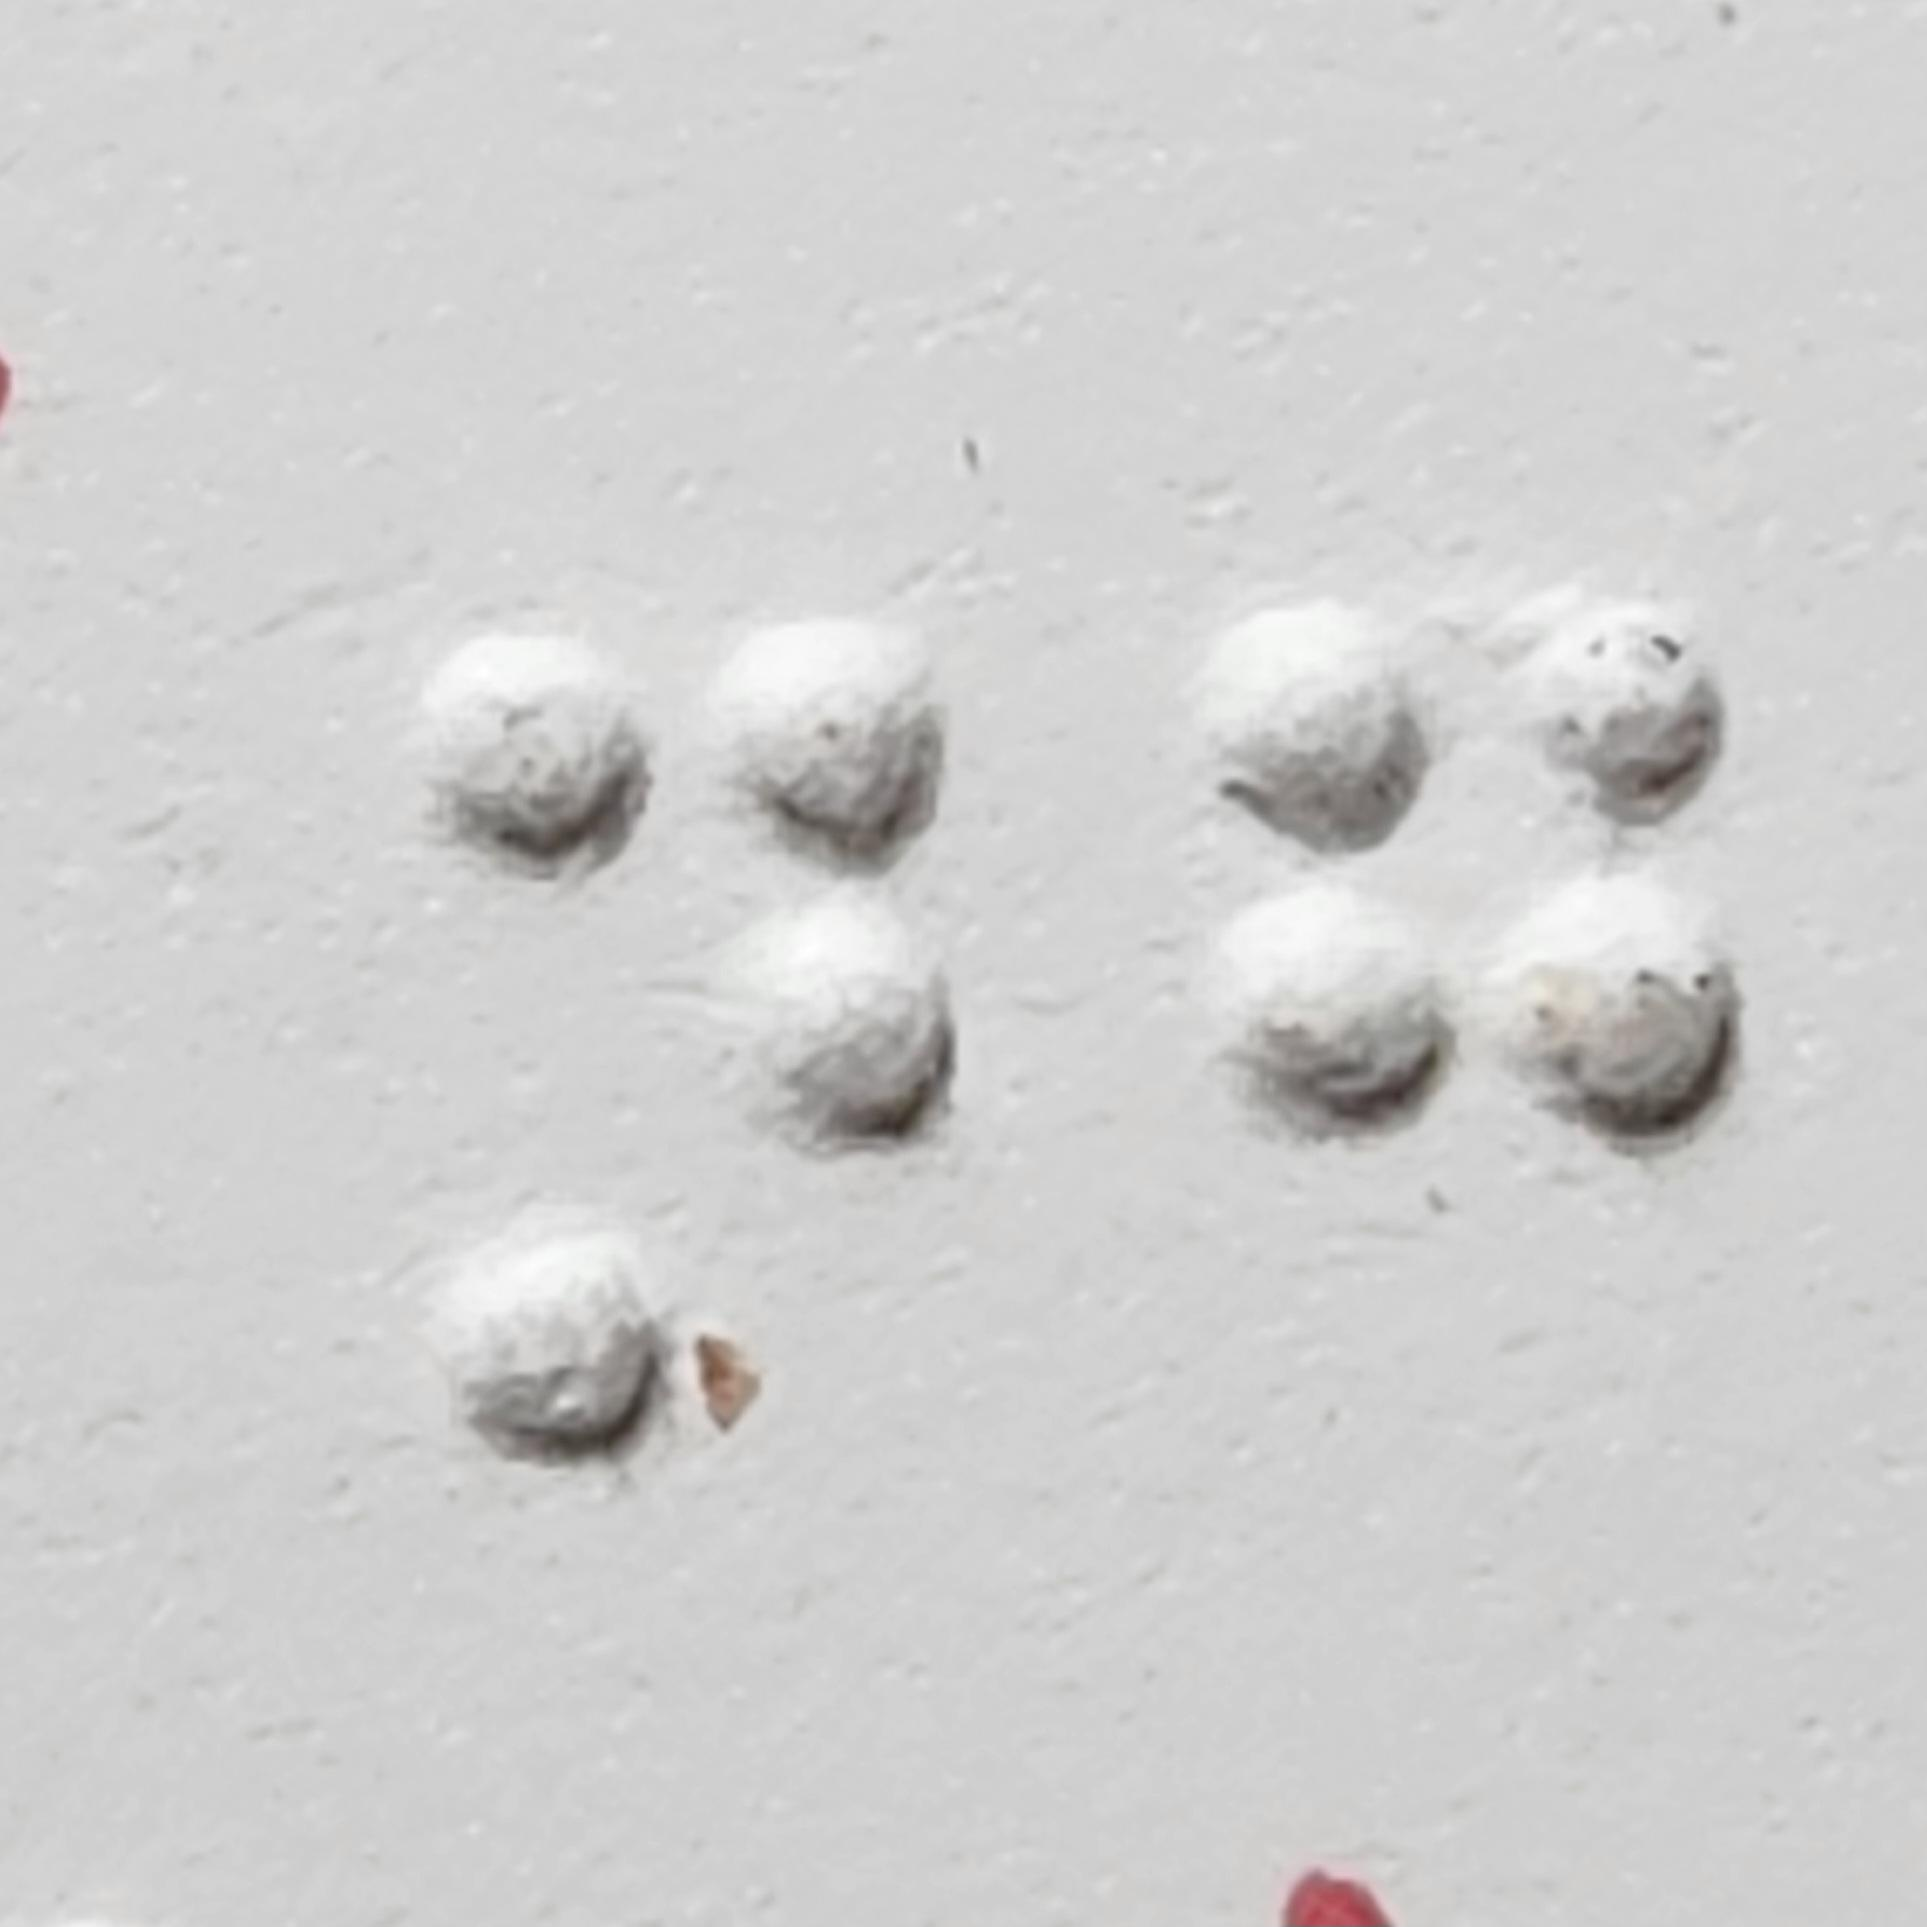letter_g: (1205, 602, 1731, 1472)
letter_n: (416, 626, 960, 1463)
